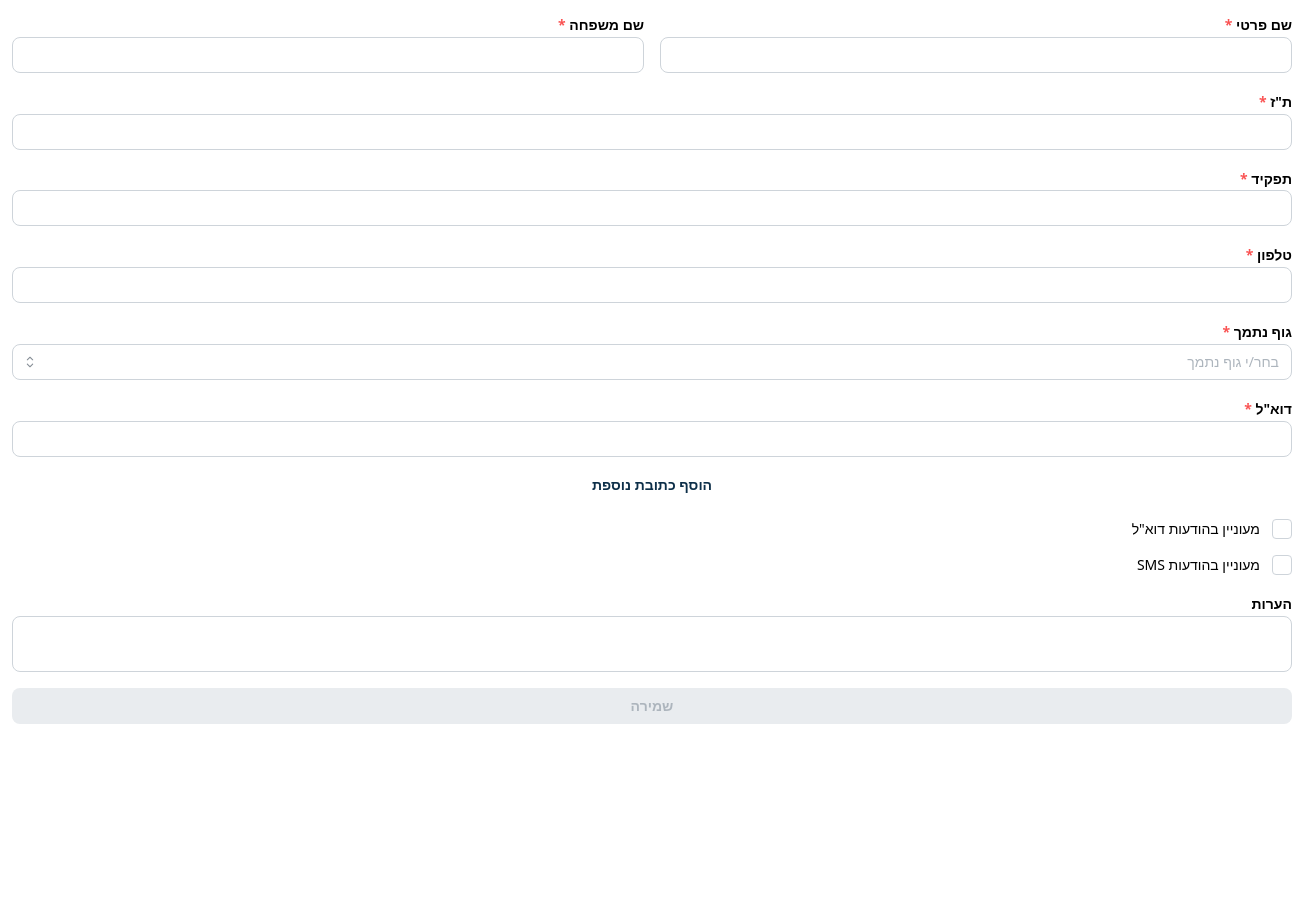
Test: ContactForm › shows a validation message for a checksum-invalid ת"ז as the user types
Type "123456789" into the field labelled "ת\"ז *" at [652, 132], box [12,114,1292,150]
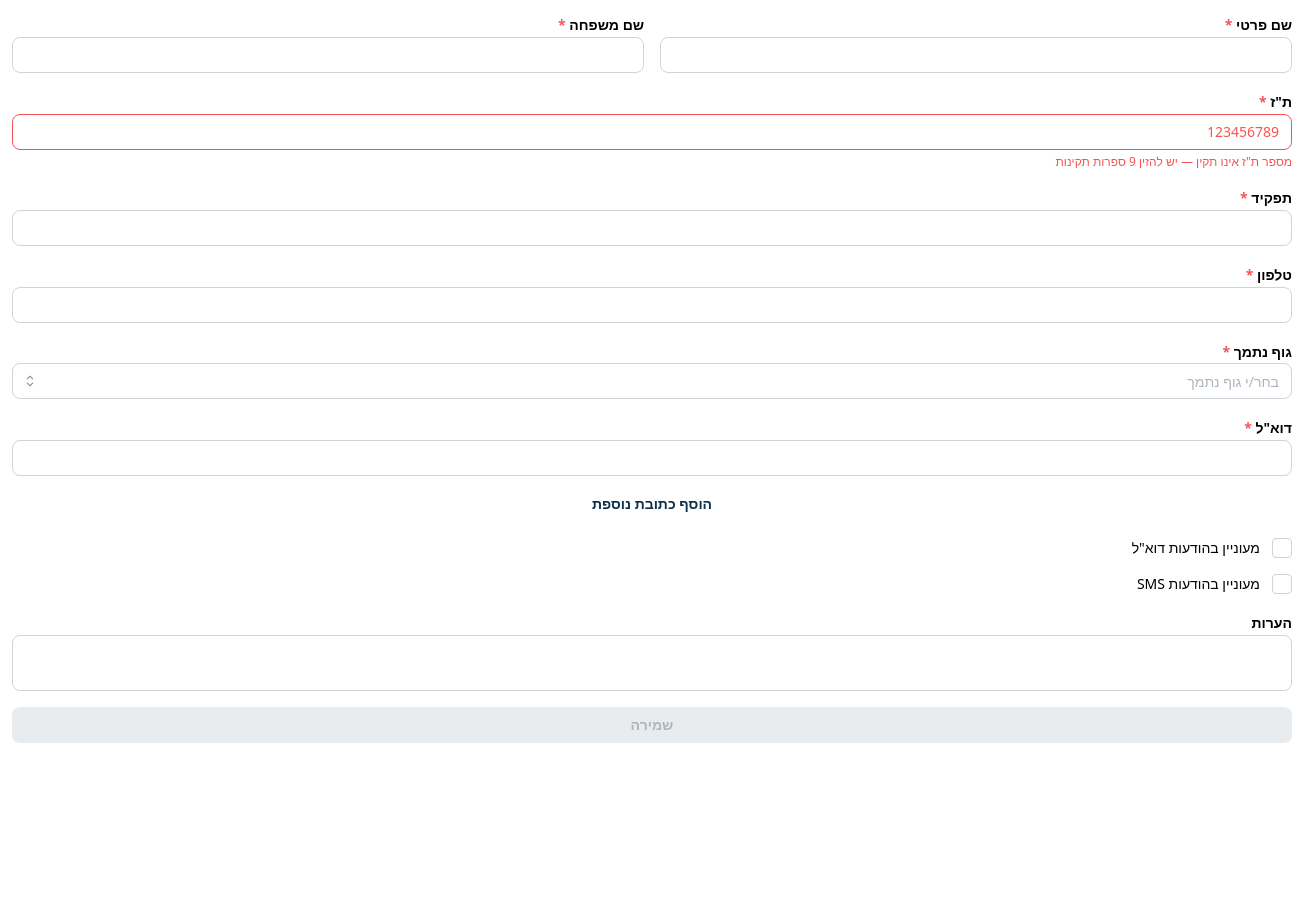
Expected: the text "מספר ת\"ז אינו תקין — יש להזין 9 ספרות תקינות" is shown, [1056,153,1292,170]
